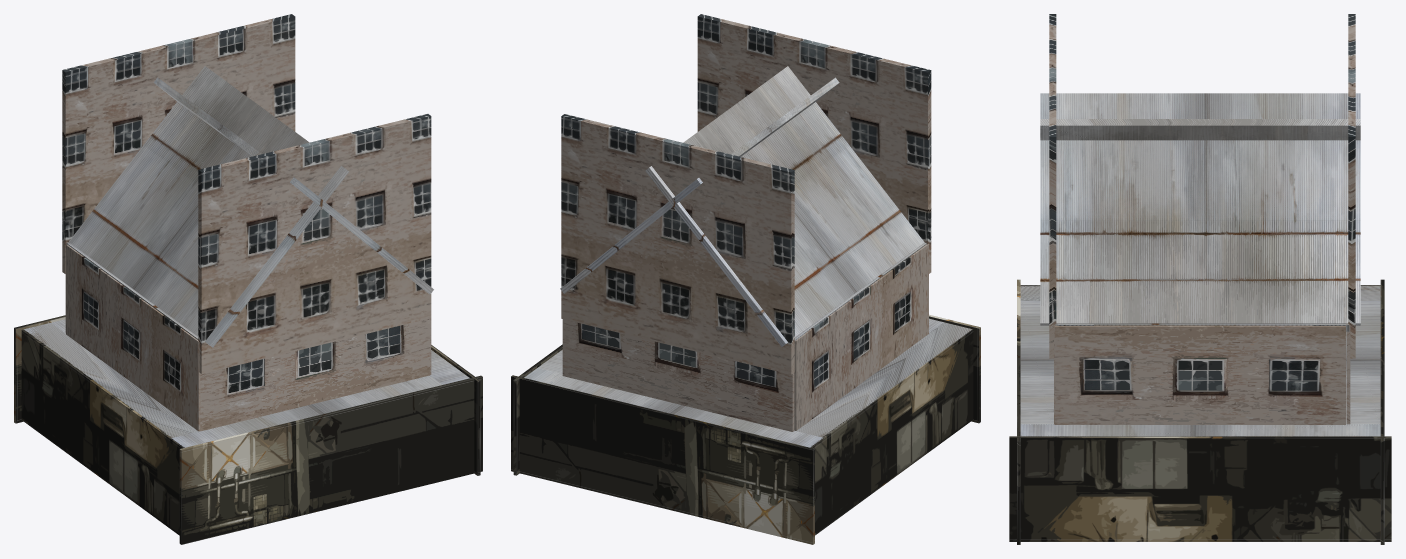
Rendered from gimmick2_4.fbx.
The picture shows the model from 3 angles, left to right: view 1: azimuth 30°, elevation 25°; view 2: azimuth 150°, elevation 25°; view 3: azimuth 270°, elevation 25°; orthographic projection. The views are drawn at different scales.
Parts seen in each view (by area): view 1: ceiling10, wall7, ceiling9, ceiling11, wall5, wall3, wall2, ceiling7, ceiling6, ceiling2, wall8, wall6 (+1 smaller); view 2: ceiling11, wall8, ceiling9, ceiling10, wall5, wall4, wall2, ceiling7, ceiling5, ceiling2, wall7, wall6; view 3: ceiling2, wall6, wall1, ceiling9, ceiling8, ceiling6, ceiling5, ceiling11, ceiling10, wall8, wall7, ceiling12 (+2 smaller).
Part boxes in pixels (bbox=[...]): ceiling10: bbox=[198, 114, 431, 373]; wall7: bbox=[179, 375, 482, 544]; ceiling9: bbox=[69, 66, 348, 347]; ceiling11: bbox=[62, 14, 295, 274]; wall5: bbox=[21, 329, 184, 535]; wall3: bbox=[200, 318, 430, 431]; wall2: bbox=[66, 244, 200, 431]; ceiling7: bbox=[24, 323, 198, 447]; ceiling6: bbox=[172, 375, 442, 447]; ceiling2: bbox=[153, 77, 433, 294]; wall8: bbox=[14, 315, 65, 423]; wall6: bbox=[431, 345, 480, 475]; ceiling11: bbox=[561, 114, 794, 374]; wall8: bbox=[511, 375, 814, 544]; ceiling9: bbox=[645, 66, 931, 346]; ceiling10: bbox=[697, 14, 931, 273]; wall5: bbox=[810, 329, 973, 535]; wall4: bbox=[562, 319, 794, 431]; wall2: bbox=[794, 244, 928, 430]; ceiling7: bbox=[796, 322, 972, 446]; ceiling5: bbox=[524, 368, 822, 447]; ceiling2: bbox=[560, 77, 839, 293]; wall7: bbox=[929, 314, 980, 423]; wall6: bbox=[513, 344, 562, 475]; ceiling2: bbox=[1040, 93, 1360, 325]; wall6: bbox=[1009, 436, 1391, 541]; wall1: bbox=[1054, 325, 1345, 424]; ceiling9: bbox=[1040, 119, 1360, 140]; ceiling8: bbox=[1020, 424, 1380, 436]; ceiling6: bbox=[1020, 298, 1053, 435]; ceiling5: bbox=[1346, 301, 1380, 435]; ceiling11: bbox=[1348, 14, 1355, 358]; ceiling10: bbox=[1049, 14, 1056, 358]; wall8: bbox=[1380, 279, 1384, 544]; wall7: bbox=[1017, 279, 1020, 544]; ceiling12: bbox=[1055, 323, 1345, 325].
Bounding box in the file's own units: 5250 × 5250 × 5883.
